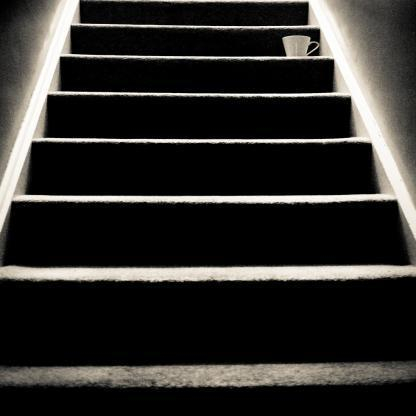stair: (16, 0, 413, 414)
